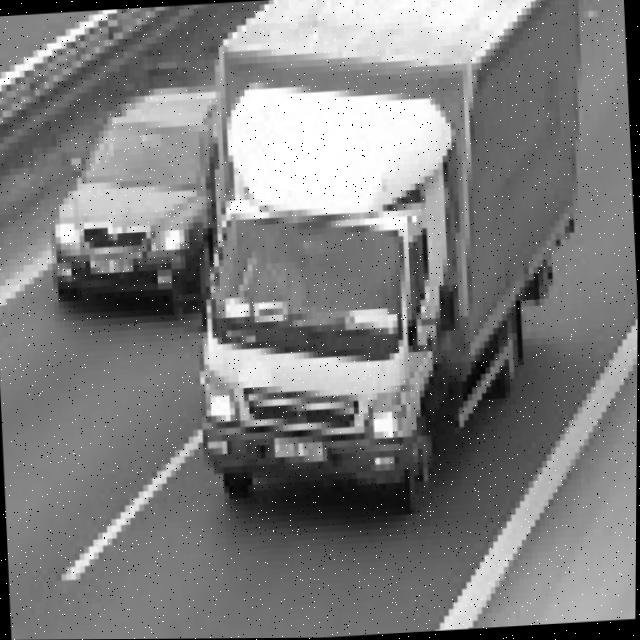truck: (179, 70, 491, 557)
